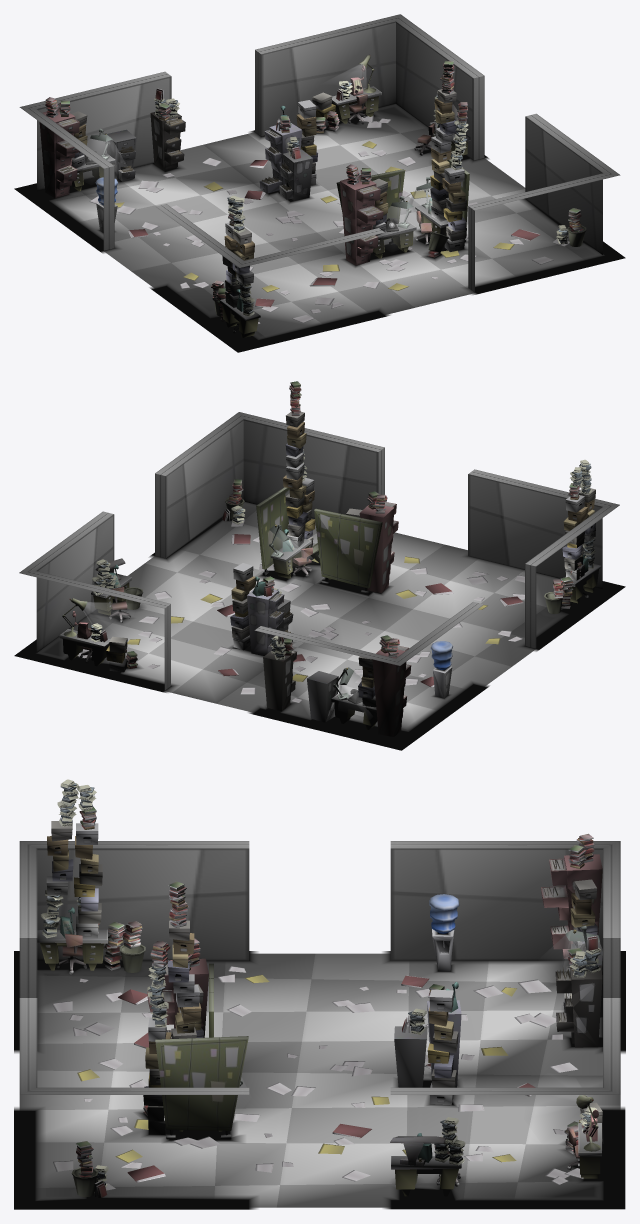
File: field_maze_quadrant9.glb
The picture shows the model from 3 angles, top to bottom: view 1: azimuth 30°, elevation 25°; view 2: azimuth 150°, elevation 25°; view 3: azimuth 270°, elevation 25°; orthographic projection. The views are drawn at different scales.
Visible parts, largest first — view 1: maze_floor, maze1_grouping1, maze2_grouping2, maze6_grouping6, maze4_grouping4, maze5_grouping5, maze8_floorPaperGrouping, maze3_grouping3, maze5_floorShadow_grouping5, maze2_floorShadow_grouping2, maze4_floorShadow_grouping4, maze6_lightConeMd (+5 smaller); view 2: maze_floor, maze4_grouping4, maze5_grouping5, maze6_grouping6, maze1_grouping1, maze2_grouping2, maze8_floorPaperGrouping, maze3_grouping3, maze2_floorShadow_grouping2, maze1_floorShadow_grouping1, maze5_floorShadow_grouping5, maze6_floorShadow_grouping6 (+5 smaller); view 3: maze_floor, maze2_grouping2, maze5_grouping5, maze6_grouping6, maze8_floorPaperGrouping, maze1_grouping1, maze1_floorShadow_grouping1, maze4_floorShadow_grouping4, maze3_grouping3, maze4_grouping4, maze5_floorShadow_grouping5, maze2_floorShadow_grouping2 (+5 smaller).
Boxes of the visible parts, box(x1,y1,x2,y2) form: maze_floor: box(51, 104, 602, 339); maze1_grouping1: box(255, 14, 484, 160); maze2_grouping2: box(19, 71, 185, 250); maze6_grouping6: box(336, 61, 469, 265); maze4_grouping4: box(468, 113, 620, 292); maze5_grouping5: box(156, 195, 384, 337); maze8_floorPaperGrouping: box(89, 115, 569, 323); maze3_grouping3: box(259, 100, 317, 200); maze5_floorShadow_grouping5: box(149, 282, 390, 352); maze2_floorShadow_grouping2: box(14, 163, 185, 253); maze4_floorShadow_grouping4: box(461, 198, 625, 294); maze6_lightConeMd: box(383, 206, 424, 240); maze_floor: box(37, 502, 566, 730); maze4_grouping4: box(155, 412, 384, 558); maze5_grouping5: box(468, 459, 619, 648); maze6_grouping6: box(256, 381, 398, 594); maze1_grouping1: box(19, 511, 170, 690); maze2_grouping2: box(254, 602, 483, 736); maze8_floorPaperGrouping: box(77, 519, 524, 702); maze3_grouping3: box(230, 563, 293, 655); maze2_floorShadow_grouping2: box(248, 681, 489, 750); maze1_floorShadow_grouping1: box(14, 602, 178, 692); maze5_floorShadow_grouping5: box(462, 552, 625, 651); maze6_floorShadow_grouping6: box(255, 561, 393, 597); maze_floor: box(19, 953, 620, 1207); maze2_grouping2: box(390, 833, 620, 1047); maze5_grouping5: box(19, 779, 249, 997); maze6_grouping6: box(143, 881, 248, 1139); maze8_floorPaperGrouping: box(52, 966, 583, 1192); maze1_grouping1: box(390, 998, 620, 1196); maze1_floorShadow_grouping1: box(383, 1107, 625, 1209); maze4_floorShadow_grouping4: box(14, 1107, 258, 1209); maze3_grouping3: box(394, 982, 461, 1105); maze4_grouping4: box(19, 998, 249, 1197); maze5_floorShadow_grouping5: box(14, 951, 258, 1053); maze2_floorShadow_grouping2: box(382, 951, 625, 1053).
Bounding box in the file's own units: 51.93 × 23.12 × 51.93.
Materials: 10 (7 with a texture image).
